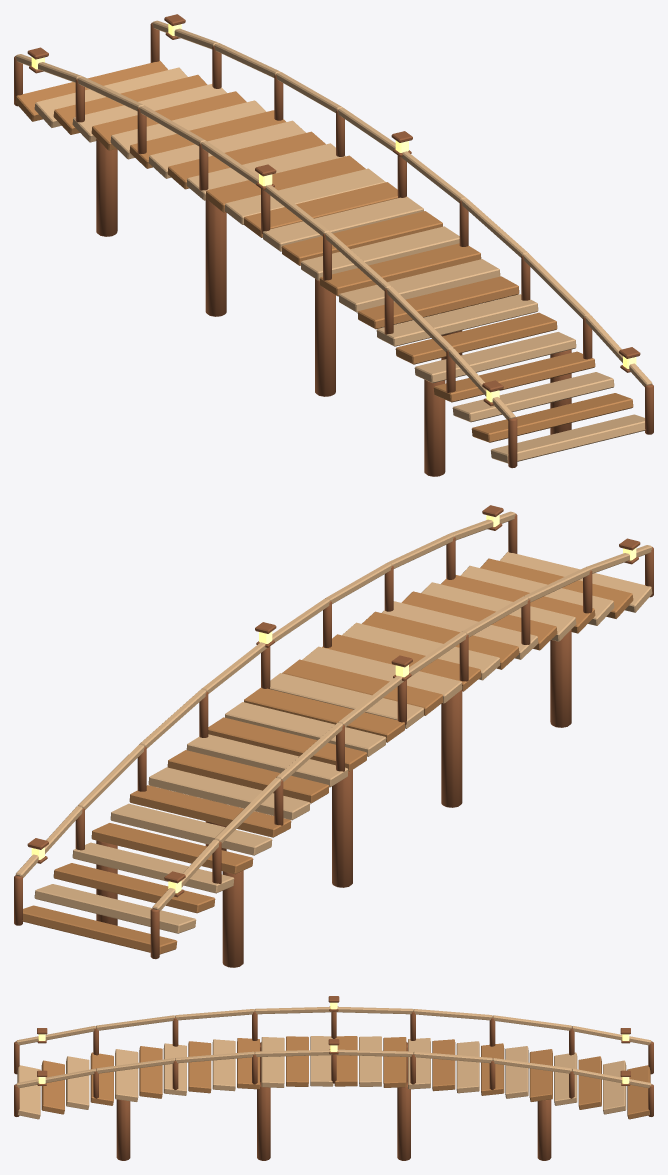
3 renders of one model, top to bottom at view 1: azimuth 30°, elevation 25°; view 2: azimuth 150°, elevation 25°; view 3: azimuth 270°, elevation 25°, orthographic. The views are drawn at different scales.
Parts seen in each view (by area): view 1: honey_wood, warm_cedar, toasted_wood, amber_glow; view 2: honey_wood, warm_cedar, toasted_wood, amber_glow; view 3: honey_wood, warm_cedar, toasted_wood, amber_glow.
Part boxes in pixels (left/top/right/bottom): honey_wood: left=15, top=20, right=652, bottom=463; warm_cedar: left=15, top=61, right=633, bottom=442; toasted_wood: left=14, top=14, right=653, bottom=476; amber_glow: left=31, top=23, right=636, bottom=402; honey_wood: left=15, top=511, right=652, bottom=933; warm_cedar: left=22, top=558, right=633, bottom=954; toasted_wood: left=14, top=505, right=653, bottom=967; amber_glow: left=31, top=514, right=636, bottom=893; honey_wood: left=16, top=1007, right=651, bottom=1119; warm_cedar: left=41, top=1036, right=650, bottom=1119; toasted_wood: left=14, top=996, right=653, bottom=1160; amber_glow: left=38, top=1002, right=629, bottom=1083.
Size of the model in its own units: 2.87 by 3.37 by 16.42.
